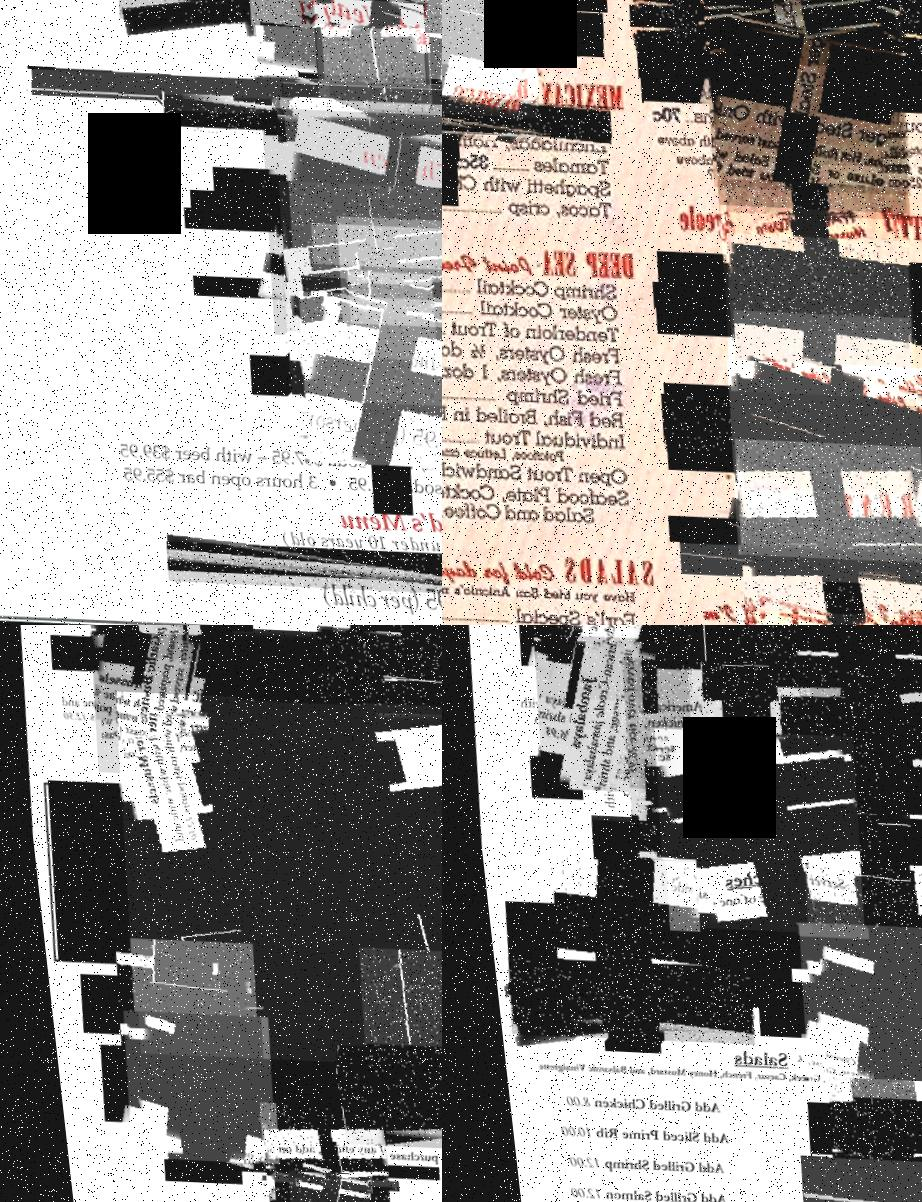Menu-Items: (90, 692, 442, 1072), (603, 656, 886, 918), (229, 110, 442, 347), (637, 732, 863, 941), (245, 181, 442, 411), (704, 359, 922, 565), (244, 100, 442, 323), (689, 0, 913, 197), (694, 21, 912, 223), (702, 205, 914, 401), (711, 438, 922, 625), (707, 233, 913, 424), (708, 179, 913, 370), (252, 85, 442, 290), (714, 310, 916, 498), (692, 0, 904, 169), (687, 0, 910, 149), (7, 65, 442, 139), (265, 293, 442, 471), (521, 636, 695, 797), (528, 856, 698, 1013), (774, 924, 922, 1104), (98, 1010, 265, 1165), (77, 631, 243, 784), (487, 957, 744, 1051), (181, 0, 442, 89), (95, 937, 252, 1082), (785, 866, 922, 1030), (217, 0, 442, 99), (137, 540, 442, 609), (645, 392, 922, 467), (223, 697, 367, 831), (782, 625, 922, 758), (623, 0, 922, 58), (139, 94, 442, 150), (77, 625, 236, 731), (797, 669, 922, 803), (99, 0, 442, 45), (290, 0, 418, 117), (692, 0, 902, 70), (339, 948, 442, 1089), (442, 0, 543, 143), (234, 1102, 378, 1202), (516, 625, 694, 705), (315, 1044, 442, 1155), (661, 541, 922, 592), (309, 220, 427, 329), (442, 470, 622, 540), (807, 1077, 922, 1186), (302, 29, 415, 134), (294, 677, 442, 757), (442, 0, 540, 119), (724, 625, 922, 676), (442, 412, 619, 469), (692, 0, 907, 44), (442, 0, 542, 94), (442, 89, 607, 142), (307, 628, 442, 692), (320, 274, 415, 362), (442, 181, 613, 228), (442, 138, 612, 184), (286, 226, 442, 276), (442, 449, 621, 492), (627, 0, 922, 25), (442, 328, 609, 371), (442, 350, 621, 390), (442, 307, 612, 349), (442, 114, 608, 157), (255, 0, 442, 38), (442, 160, 610, 202), (442, 263, 613, 304), (780, 1155, 922, 1202), (442, 373, 617, 411), (442, 390, 612, 429), (442, 290, 610, 328), (329, 625, 442, 681), (79, 625, 227, 667), (266, 1170, 356, 1202), (237, 1175, 380, 1192), (250, 1188, 365, 1202)
